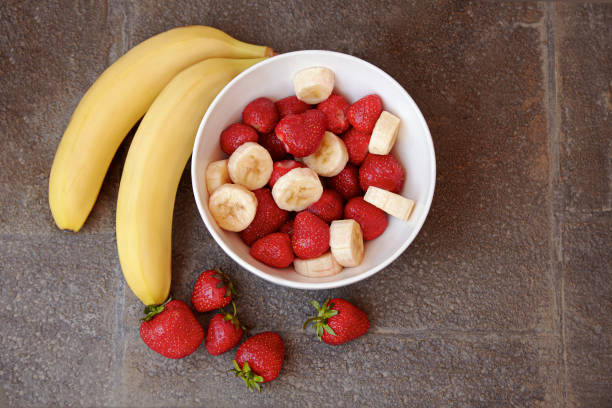banana: (41, 15, 265, 306)
